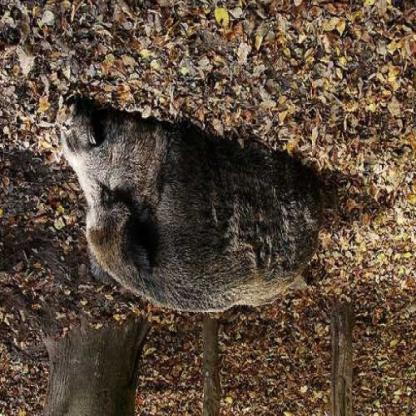boar: (55, 107, 361, 330)
